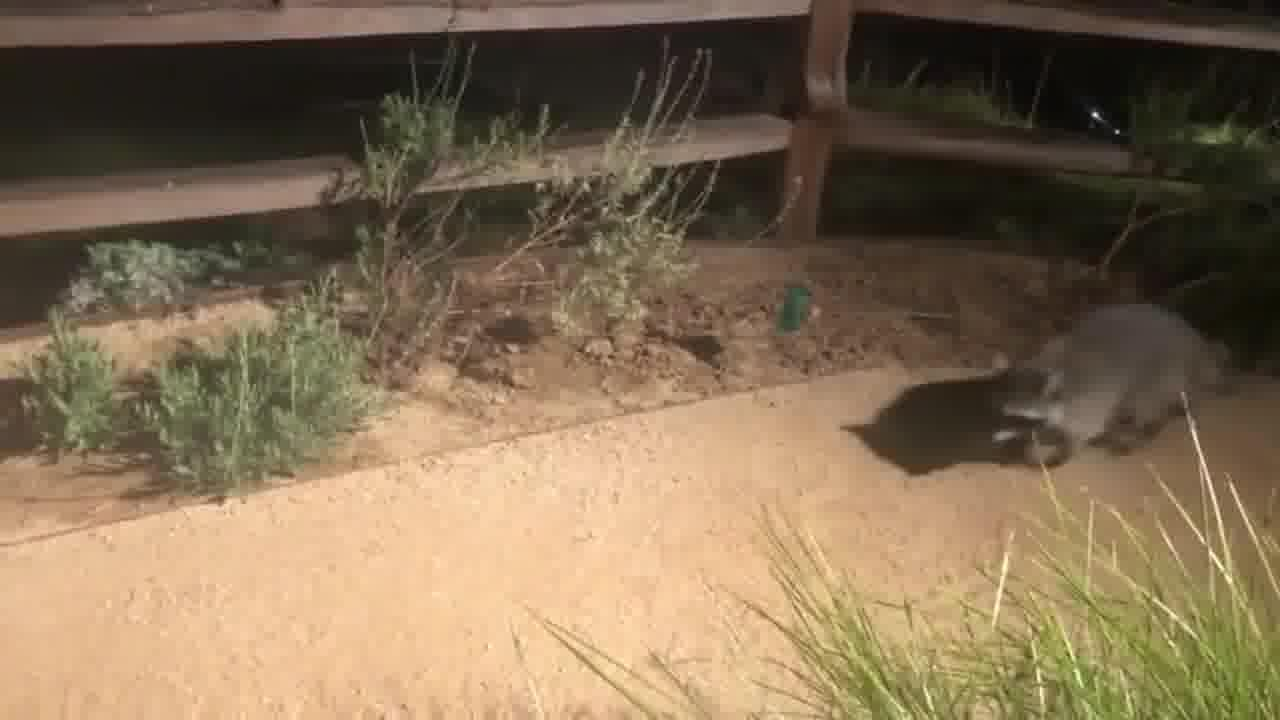raccoon: (986, 309, 1243, 470)
